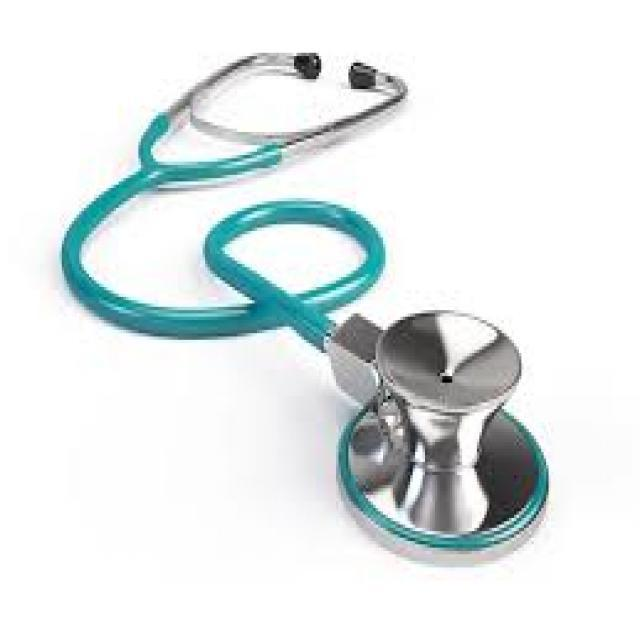stethoscope: (90, 40, 559, 571)
